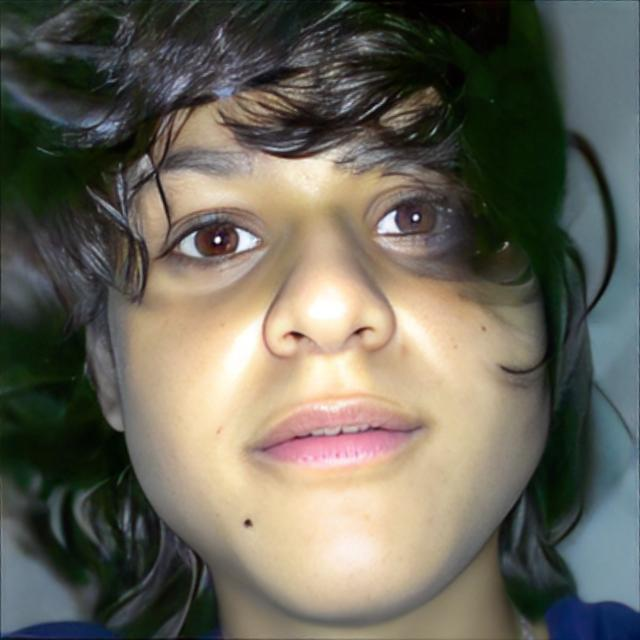neutral: (112, 103, 558, 605)
